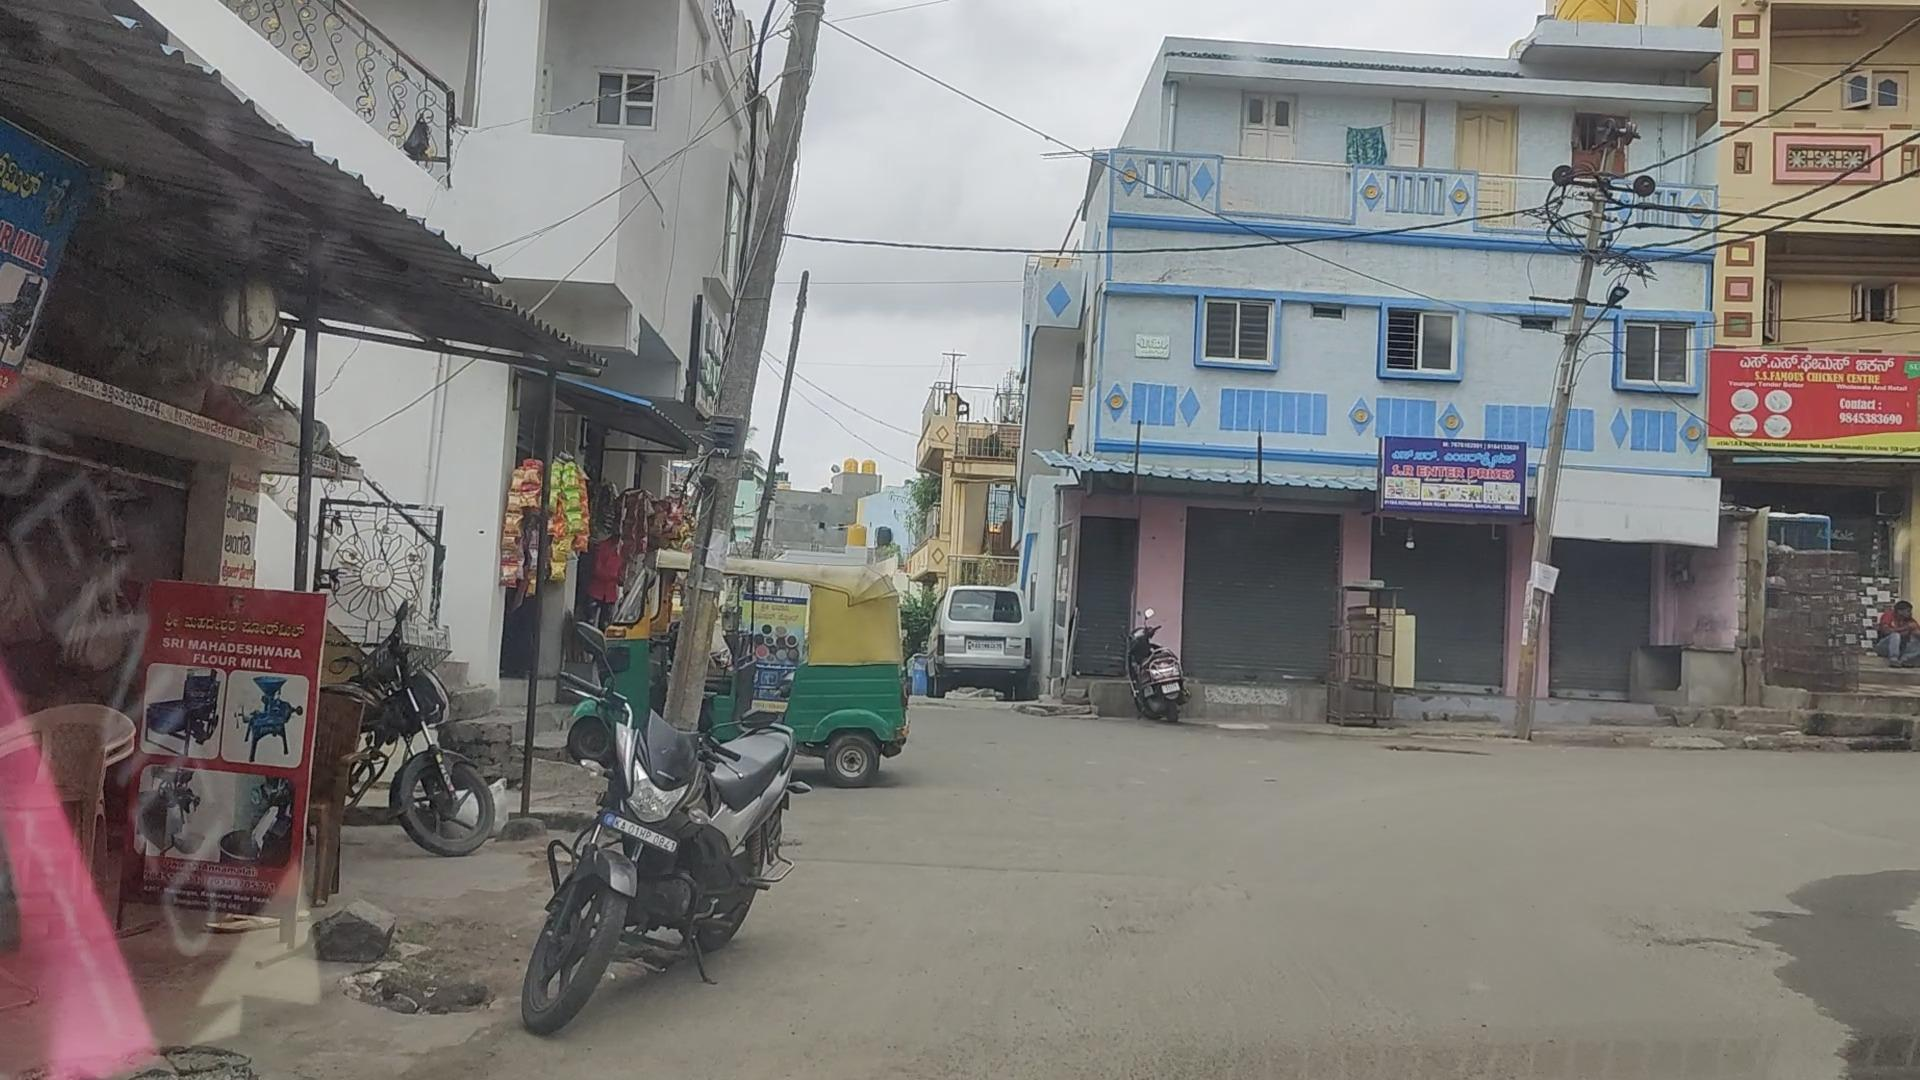RoadDamages: (1636, 907, 1789, 993), (889, 839, 1055, 893)
